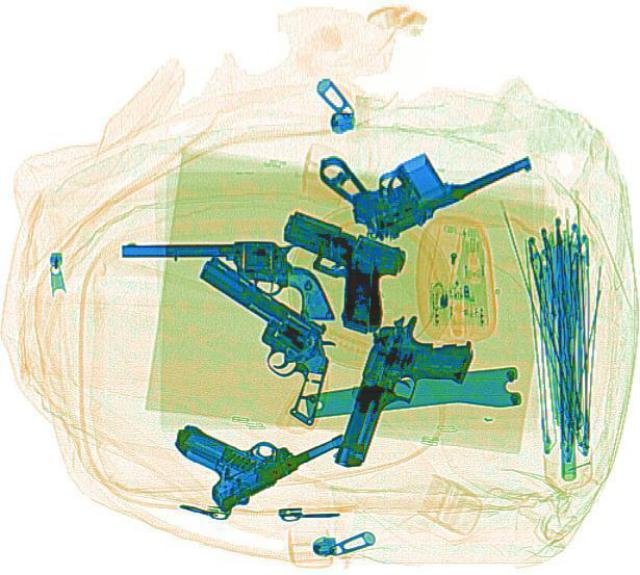Gun: (144, 251, 376, 428), (308, 86, 536, 249), (158, 366, 348, 515), (329, 304, 478, 482), (246, 206, 416, 335), (119, 239, 334, 318)
